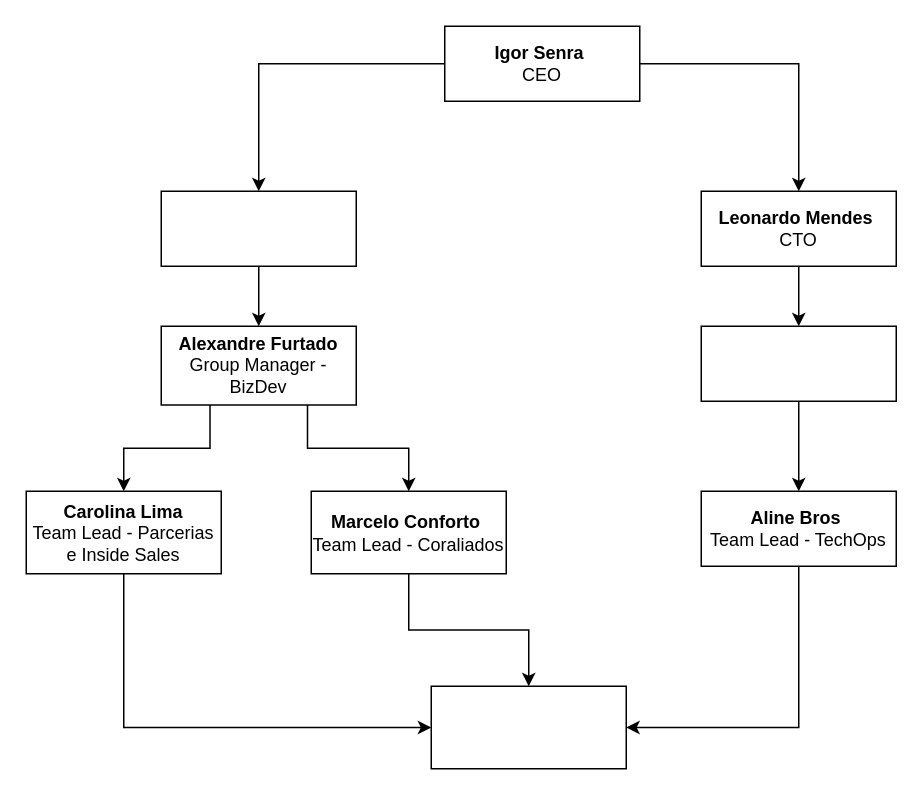
The diagram is 923 pixels wide and 795 high, and some of its shapes have lost their labels. The centre of each missing label's shape, as x and y in pixels:
"Bruna Freitas Techops - BizDev" goes at pixel 528 727.
"Flávia Rosário CMO" goes at pixel 258 228.
"Pierre-Marie Lévêque Group Manager - Dados" goes at pixel 798 363.
